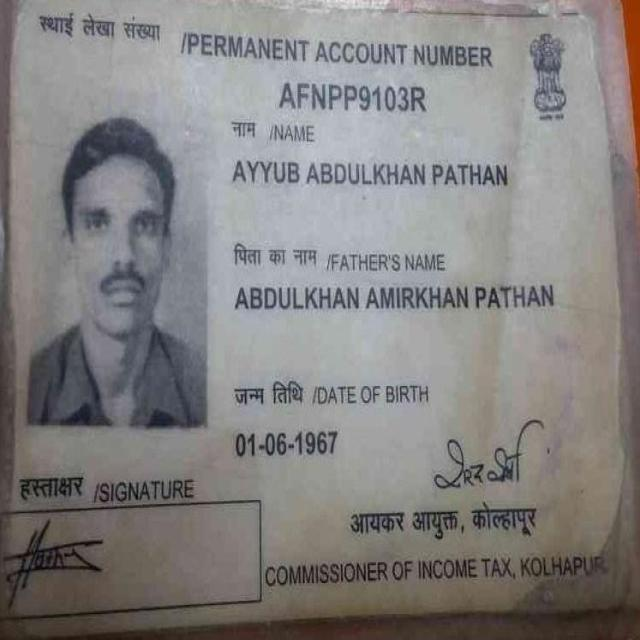pan_card: (1, 2, 625, 628)
